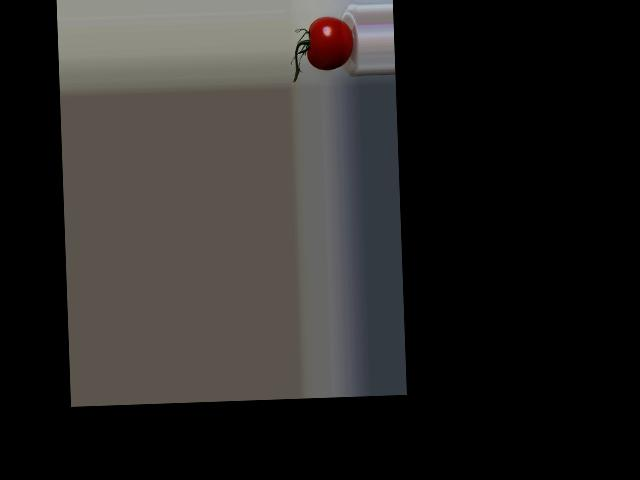tomato: (306, 16, 354, 71)
